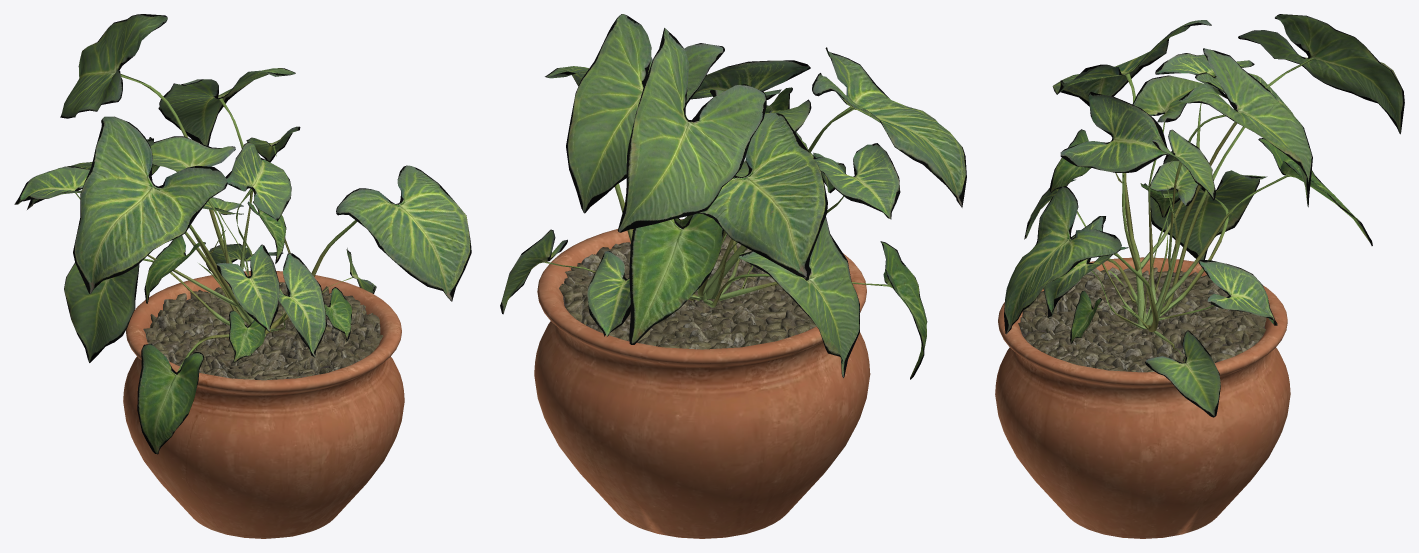
File: planta-1.glb
The picture shows the model from 3 angles, left to right: view 1: azimuth 30°, elevation 25°; view 2: azimuth 150°, elevation 25°; view 3: azimuth 270°, elevation 25°; orthographic projection. The views are drawn at different scales.
Parts seen in each view (by area): view 1: potted_plant_02_leaves, potted_plant_02_pot, potted_plant_02_dirt; view 2: potted_plant_02_leaves, potted_plant_02_pot, potted_plant_02_dirt; view 3: potted_plant_02_leaves, potted_plant_02_pot, potted_plant_02_dirt.
Boxes of the visible parts, <box> form: potted_plant_02_leaves: <box>14,14,471,454</box>; potted_plant_02_pot: <box>123,271,404,538</box>; potted_plant_02_dirt: <box>143,282,383,380</box>; potted_plant_02_leaves: <box>500,14,966,379</box>; potted_plant_02_pot: <box>534,219,870,538</box>; potted_plant_02_dirt: <box>559,233,816,349</box>; potted_plant_02_leaves: <box>1004,14,1404,417</box>; potted_plant_02_pot: <box>995,257,1290,538</box>; potted_plant_02_dirt: <box>1018,267,1266,372</box>.
Size of the model in its own units: 0.7012 by 0.8412 by 0.6574.
Materials: 2 (2 with a texture image).
